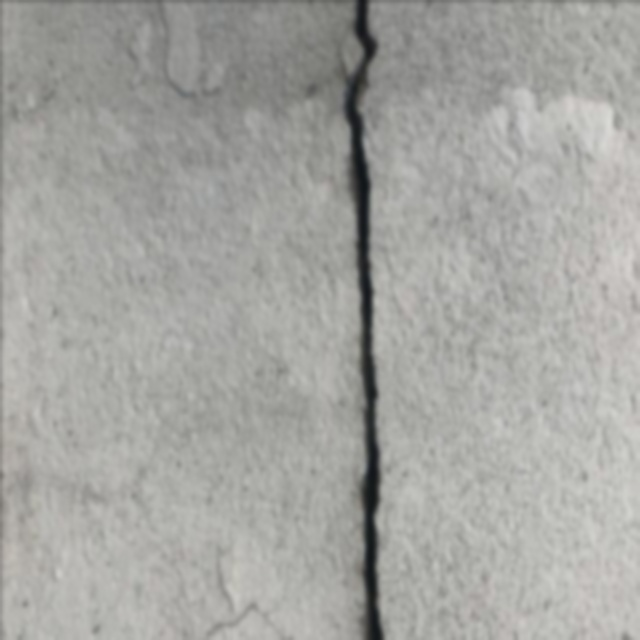SurfaceCrack: (284, 1, 444, 640)
